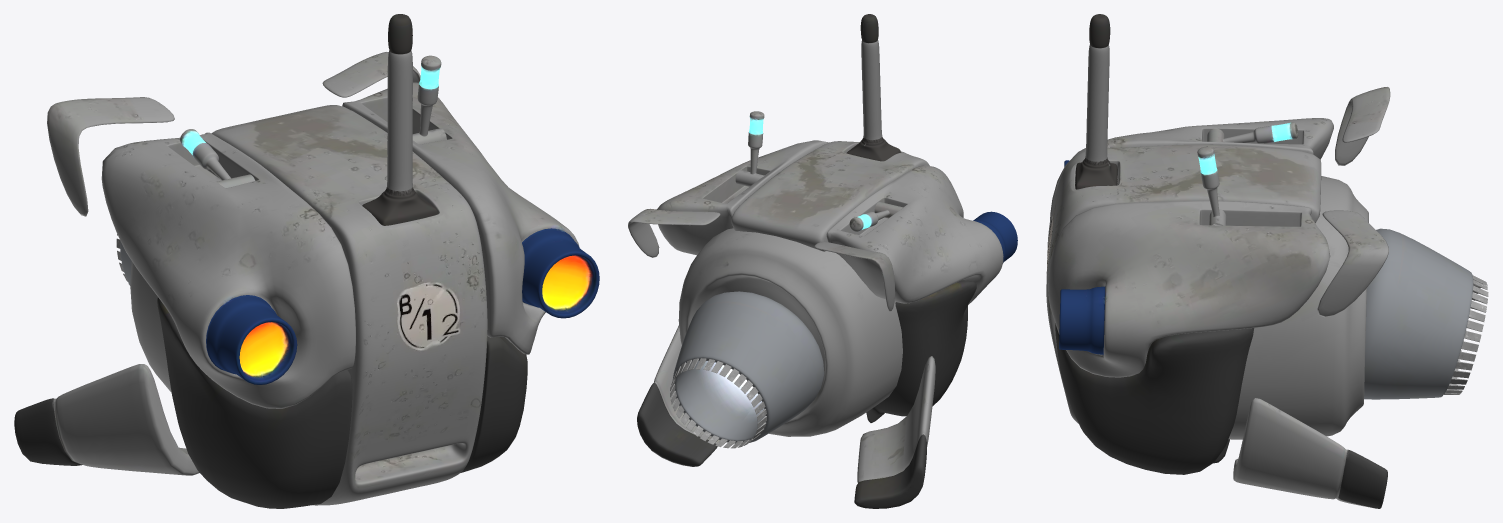
File: b12_robot.glb
3 renders of one model, left to right at view 1: azimuth 30°, elevation 25°; view 2: azimuth 150°, elevation 25°; view 3: azimuth 270°, elevation 25°, orthographic. The views are drawn at different scales.
Visible parts, largest first — view 1: Object_10, Object_4, Object_6; view 2: Object_10, Object_6, Object_4, Object_8; view 3: Object_10, Object_6, Object_4, Object_8.
Boxes of the visible parts, x1=… form: Object_10: x1=14, y1=52, x2=599, y2=508; Object_4: x1=211, y1=14, x2=487, y2=505; Object_6: x1=120, y1=241, x2=171, y2=392; Object_10: x1=628, y1=111, x2=1017, y2=508; Object_6: x1=672, y1=228, x2=902, y2=443; Object_4: x1=731, y1=14, x2=929, y2=251; Object_8: x1=670, y1=358, x2=766, y2=448; Object_10: x1=1048, y1=87, x2=1390, y2=508; Object_6: x1=1228, y1=176, x2=1473, y2=439; Object_4: x1=1046, y1=14, x2=1321, y2=423; Object_8: x1=1444, y1=275, x2=1488, y2=394.
Size of the model in its own units: 4.73 by 5.72 by 5.15.
Materials: 4 (4 with a texture image).
